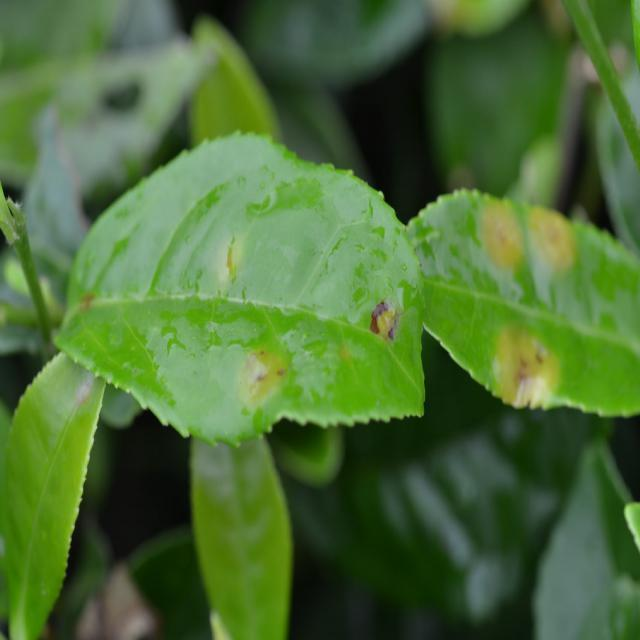Tea cake: (501, 305, 573, 410), (474, 189, 530, 283), (521, 202, 582, 272), (233, 342, 300, 399), (366, 288, 410, 346)
